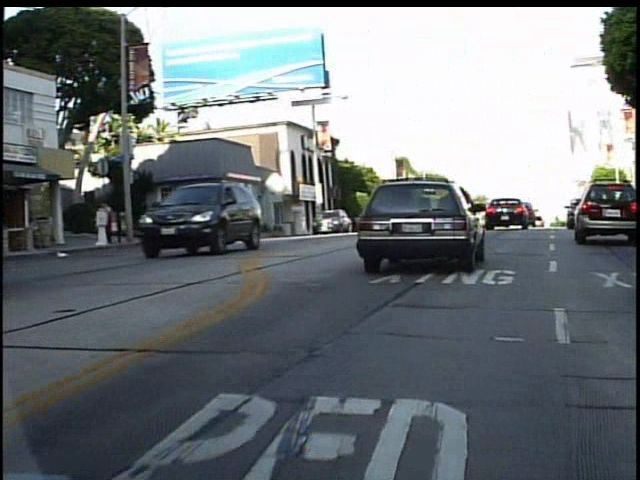person: (102, 195, 125, 248)
